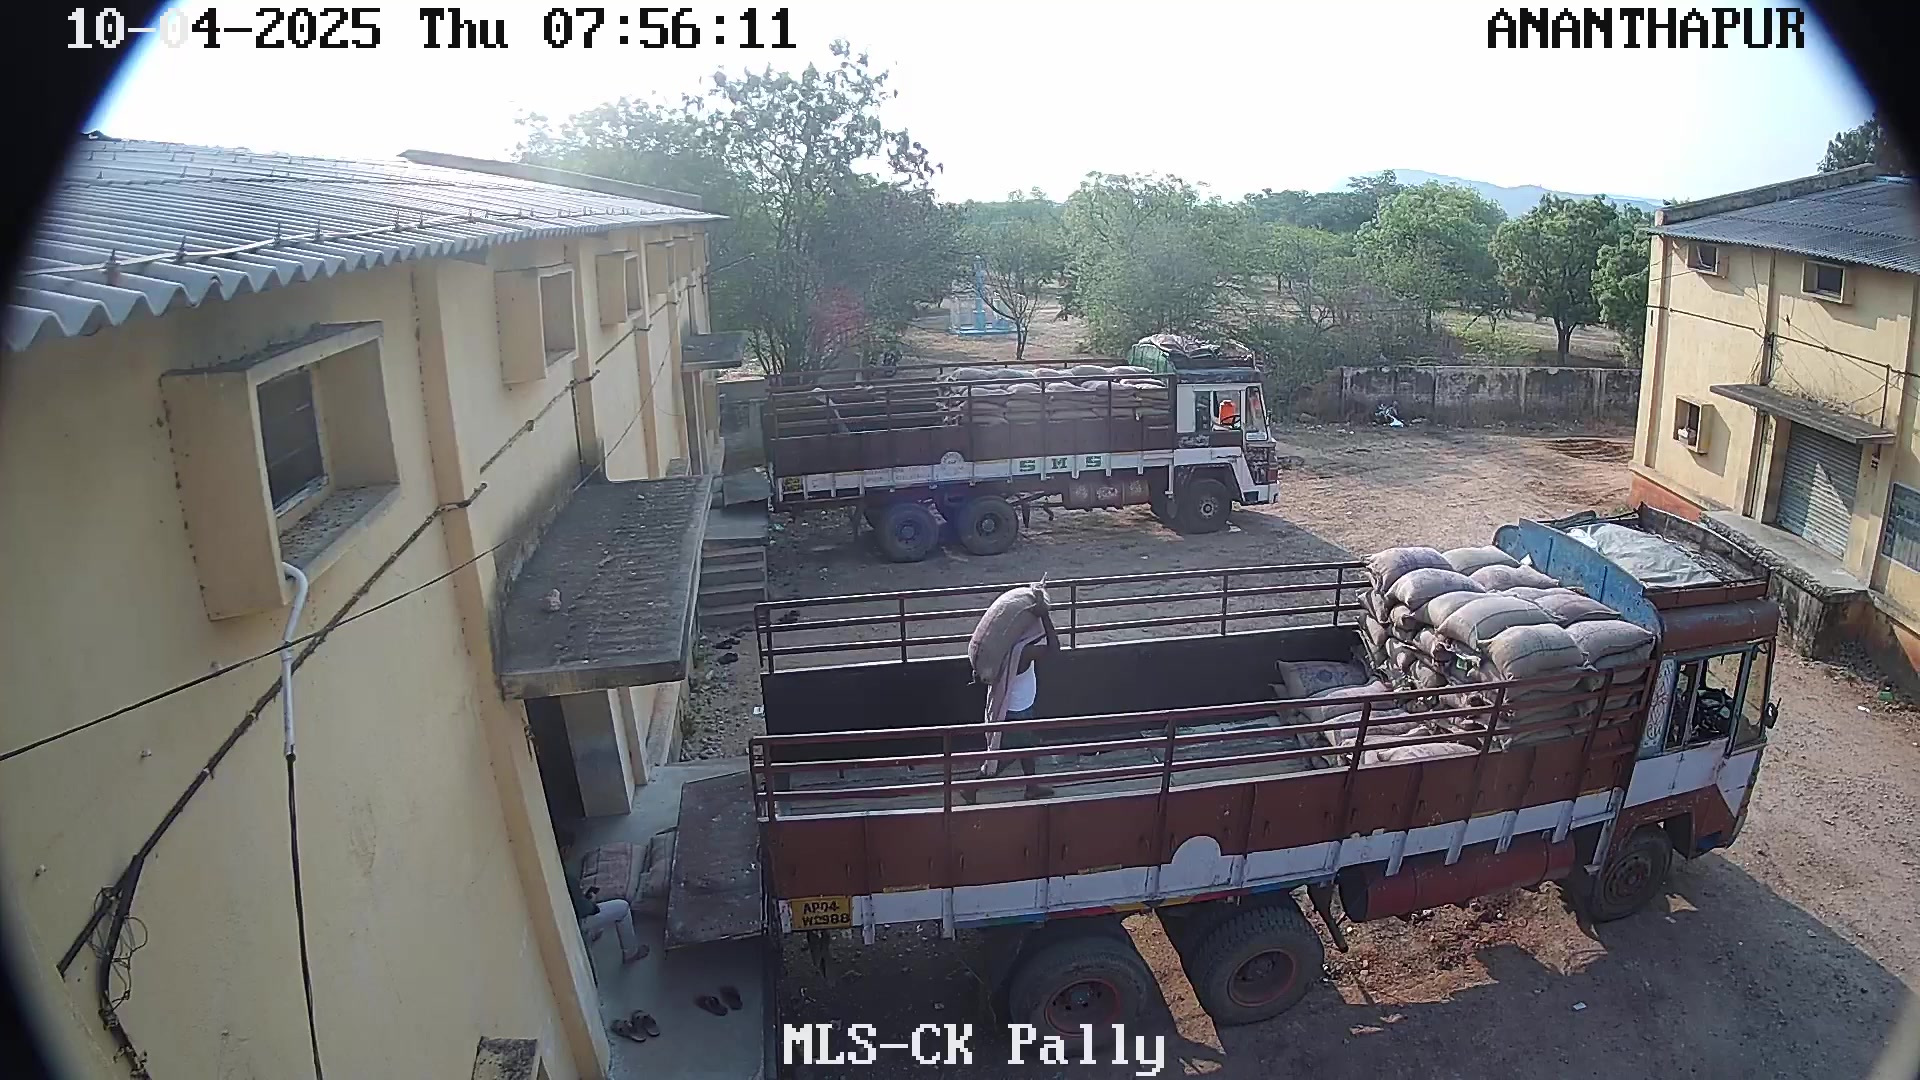gunny_bag_counting: (961, 574, 1051, 679)
gunny_bag_ignore: (767, 262, 1288, 531), (1242, 517, 1662, 782)
